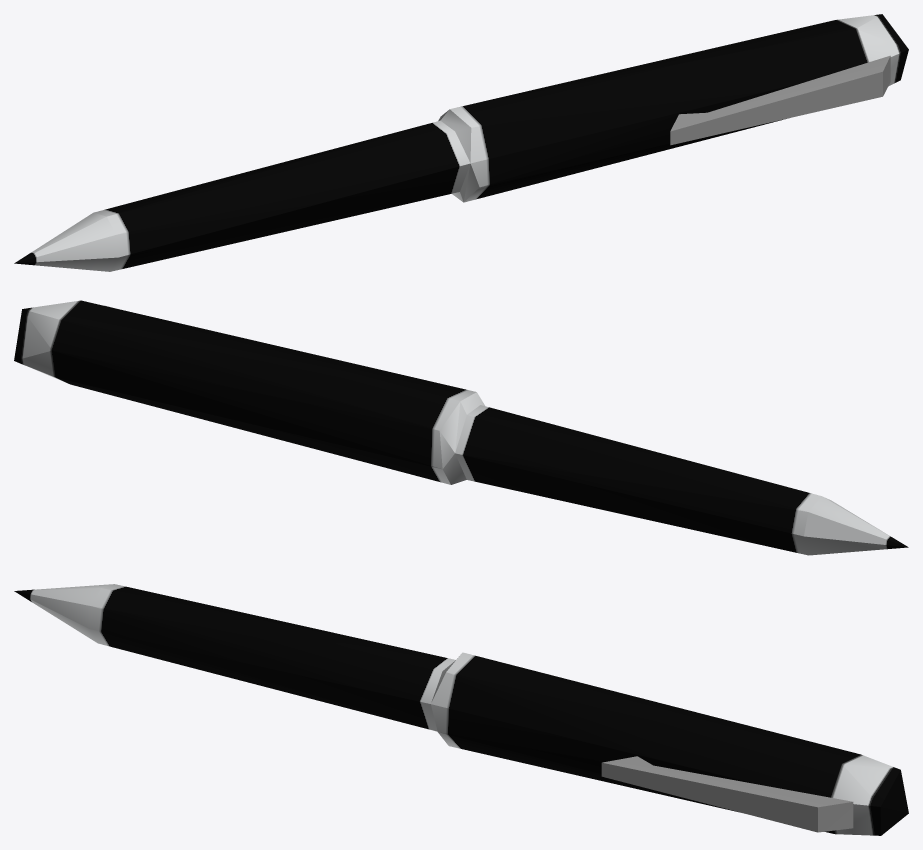
File: Lapicero.glb
The picture shows the model from 3 angles, top to bottom: view 1: azimuth 30°, elevation 25°; view 2: azimuth 150°, elevation 25°; view 3: azimuth 330°, elevation 25°; orthographic projection.
Visible parts, largest first — view 1: 75eec40a-beb1-4b65-b321-0a09b6284ed10, 0ebedb89-9558-43f0-822c-4497c1bf0116; view 2: 75eec40a-beb1-4b65-b321-0a09b6284ed10; view 3: 75eec40a-beb1-4b65-b321-0a09b6284ed10, 0ebedb89-9558-43f0-822c-4497c1bf0116.
Boxes of the visible parts, x1=… form: 75eec40a-beb1-4b65-b321-0a09b6284ed10: x1=14, y1=14, x2=908, y2=271; 0ebedb89-9558-43f0-822c-4497c1bf0116: x1=670, y1=55, x2=890, y2=145; 75eec40a-beb1-4b65-b321-0a09b6284ed10: x1=14, y1=300, x2=908, y2=555; 75eec40a-beb1-4b65-b321-0a09b6284ed10: x1=14, y1=584, x2=908, y2=835; 0ebedb89-9558-43f0-822c-4497c1bf0116: x1=601, y1=756, x2=853, y2=832.
Bounding box in the file's own units: 0.1392 × 0.0126 × 0.0157.
Materials: 2 (1 with a texture image).
